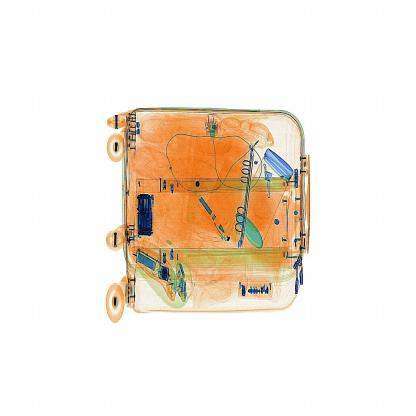scissors: (128, 189, 163, 247)
